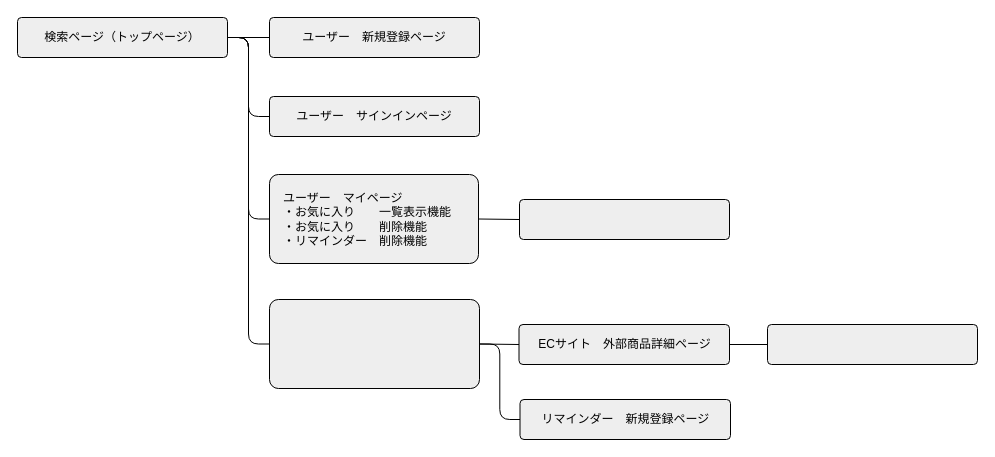
Image size: 995x457. Some labels were removed from this diagram. The shapes that lost their labels are listed below. From the top down, each one's box as (x1, y1, x2, y2) in pixels, then its label:
(518, 198, 730, 240): ユーザー 編集ページ
(268, 298, 480, 388): 商品 詳細ページ （各ECサイト検索結果表示ページ） ・商品 新規登録機能 ・お気に入り 新規登録機能
(766, 324, 978, 364): ECサイト 外部商品購入ページ
